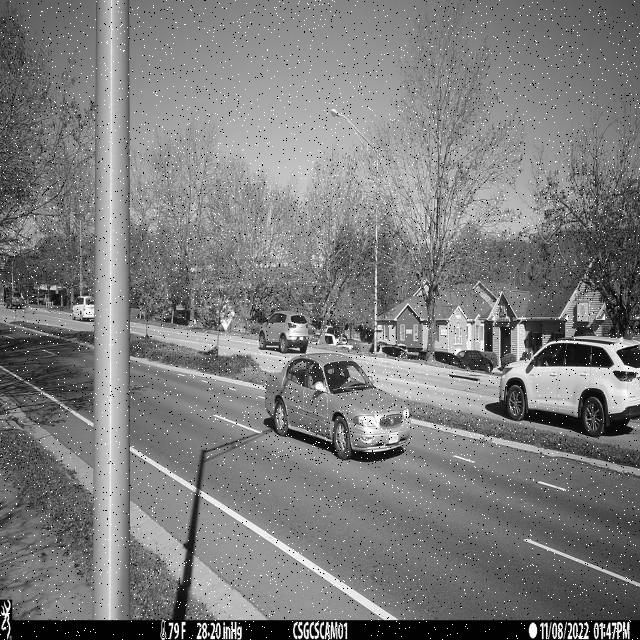Sedan: (265, 353, 412, 461)
